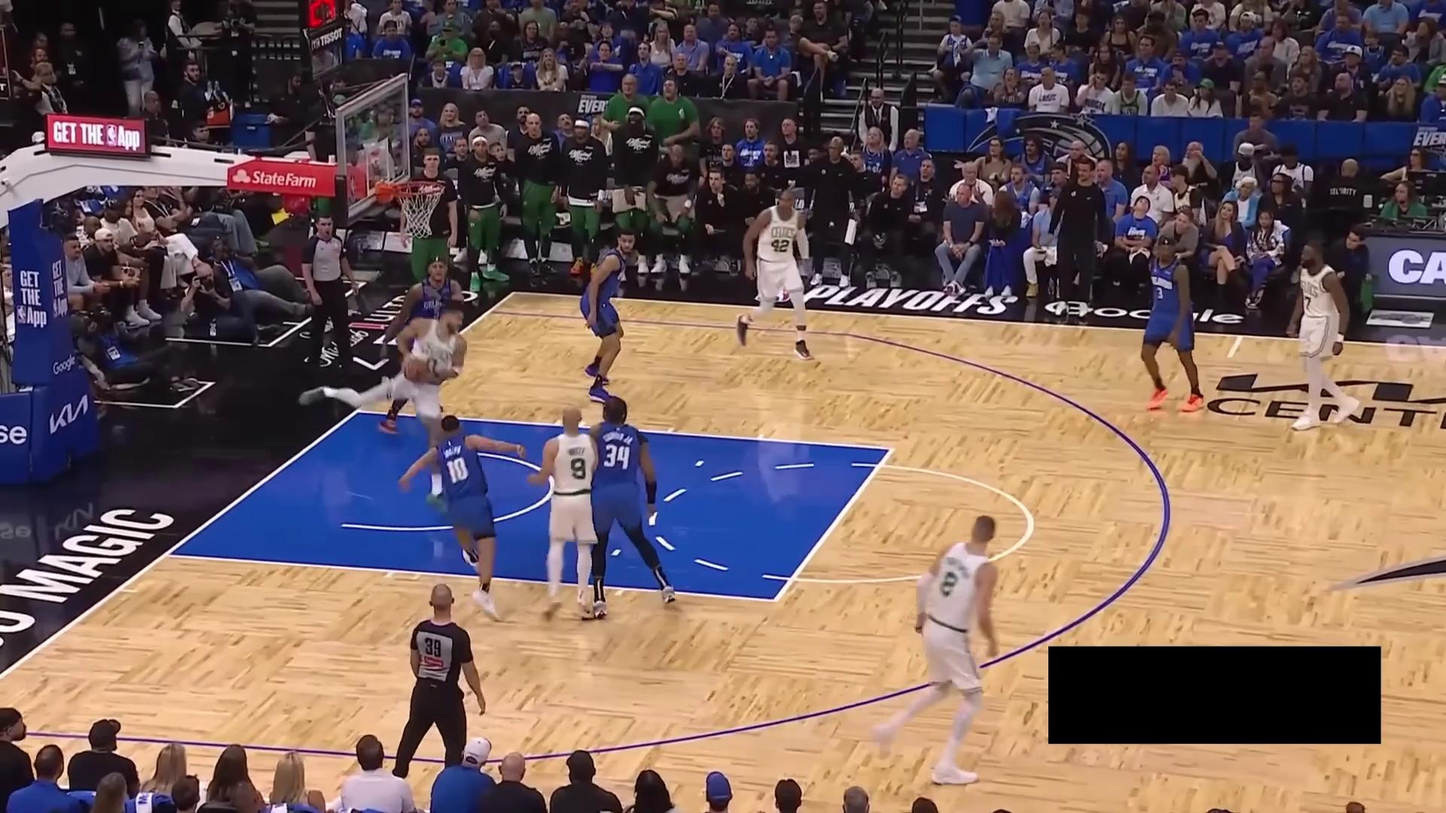ball: (401, 355, 428, 384)
number: (603, 442, 632, 470), (445, 455, 472, 485), (937, 570, 961, 598), (570, 456, 587, 482), (770, 238, 790, 253), (433, 305, 442, 321), (1304, 296, 1312, 310), (1156, 287, 1164, 300)
player: (860, 509, 1008, 786), (399, 411, 525, 627), (587, 393, 679, 621), (371, 254, 466, 440), (525, 404, 600, 621), (1287, 235, 1363, 435), (732, 186, 815, 362), (1138, 233, 1213, 416), (575, 224, 639, 406)
player-in-possession: (294, 299, 474, 503)
referee: (388, 579, 488, 783), (299, 206, 368, 378)
rim: (390, 177, 444, 197)
